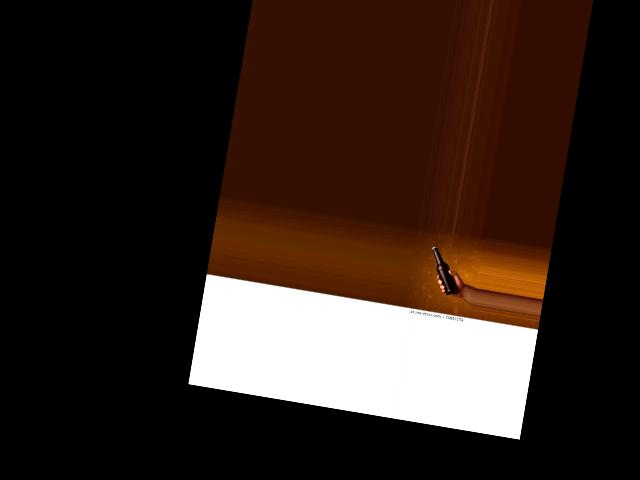beer: (424, 245, 465, 296)
